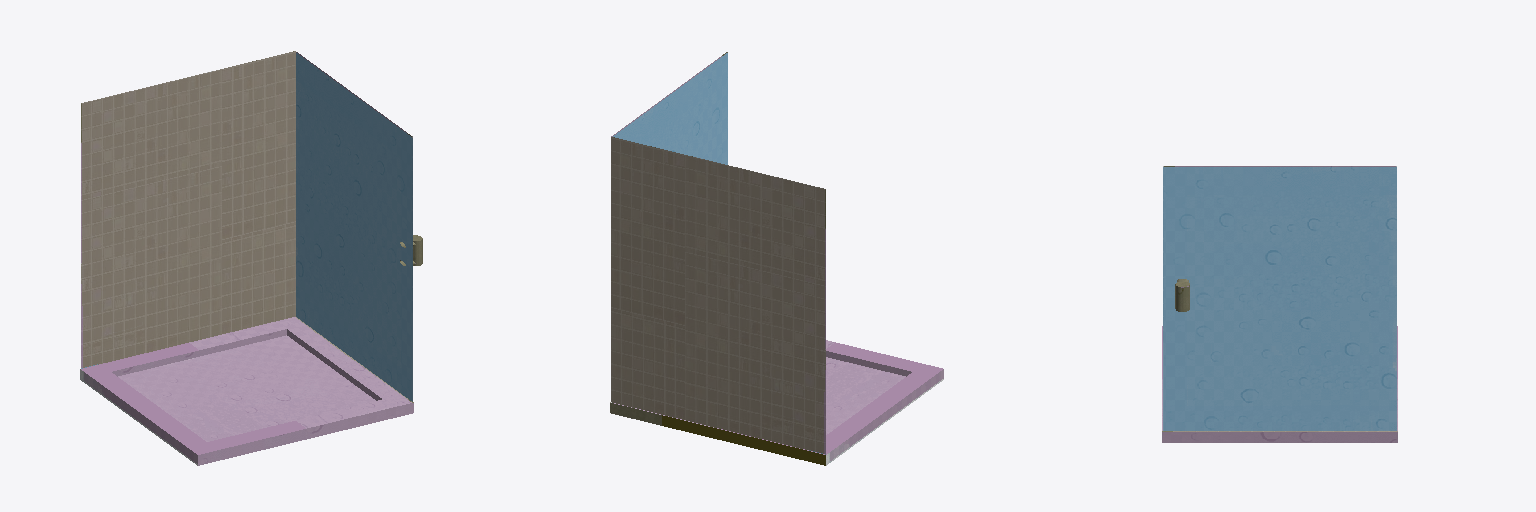
3 renders of one model, left to right at view 1: azimuth 30°, elevation 25°; view 2: azimuth 150°, elevation 25°; view 3: azimuth 270°, elevation 25°, orthographic.
Parts seen in each view (by area): view 1: Cube.003_Cube.011; view 2: Cube.003_Cube.011; view 3: Cube.003_Cube.011.
Boxes of the visible parts, <box> form: Cube.003_Cube.011: <box>80,51,422,465</box>; Cube.003_Cube.011: <box>610,52,943,465</box>; Cube.003_Cube.011: <box>1162,166,1397,442</box>.
Size of the model in its own units: 22.27 by 25.13 by 19.44.
1 materials, 1 textured.